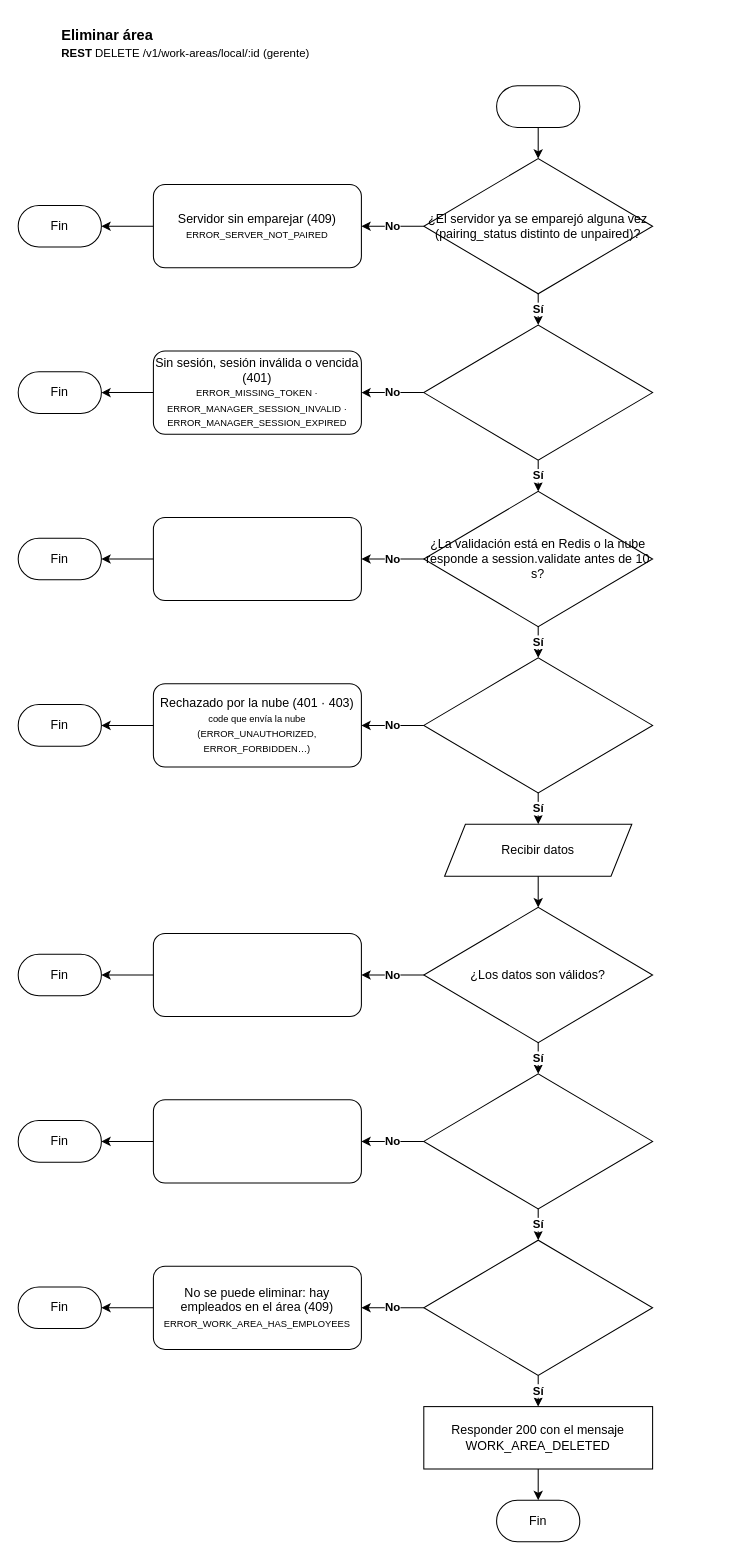
Image size: 744x1560. Some labels were removed from this diagram. The shapes that lost their labels are listed below. From the top down, each one's box as (x1, y1, x2, y2) in pixels, then its label:
(496, 85, 580, 127): Inicio
(423, 324, 653, 460): ¿Trae una sesión de gerente válida (Bearer mss_..., sin 30 min de inactividad)?
(152, 516, 361, 601): La nube no responde (503) ERROR_CLOUD_UNAVAILABLE · ERROR_SERVER_UNLINKED
(423, 657, 653, 793): ¿La nube acepta la sesión del gerente con este servidor?
(152, 932, 361, 1017): Datos inválidos (400) ERROR_BAD_REQUEST
(152, 1099, 361, 1183): No se encontró el área de trabajo (404) ERROR_WORK_AREA_NOT_FOUND
(423, 1073, 653, 1209): ¿Existe el área de trabajo?
(423, 1239, 653, 1375): ¿El área no tiene empleados?
